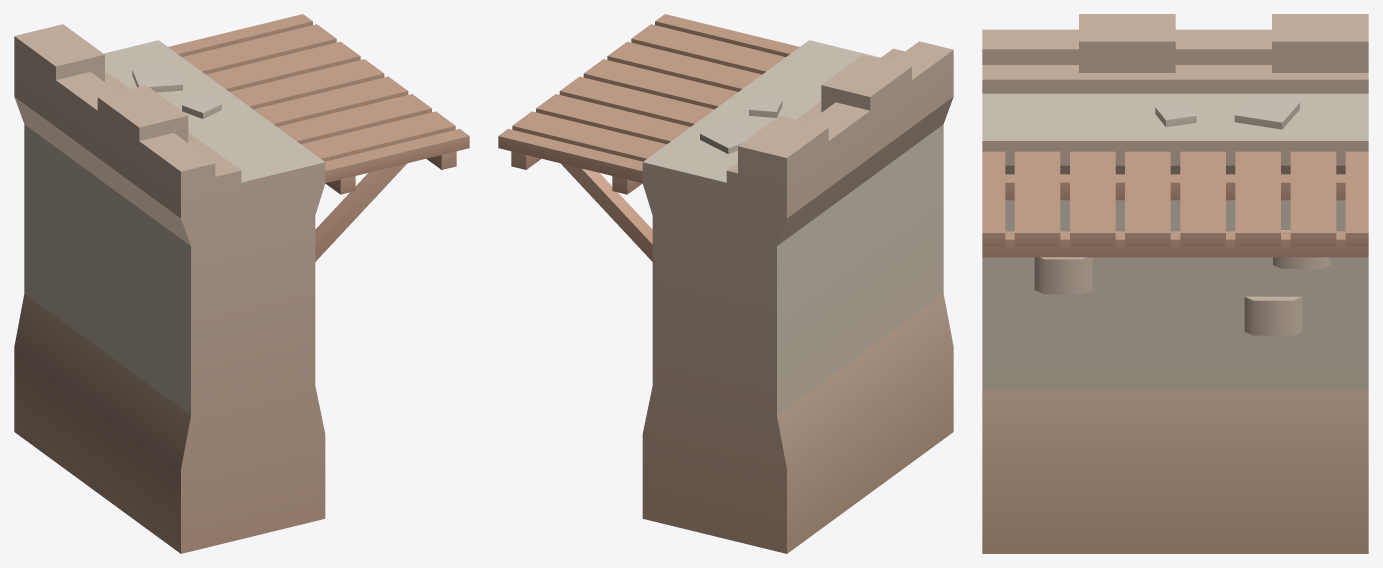
The model's file is wall-narrow-wood.glb.
The picture shows the model from 3 angles, left to right: view 1: azimuth 30°, elevation 25°; view 2: azimuth 150°, elevation 25°; view 3: azimuth 270°, elevation 25°; orthographic projection. The views are drawn at different scales.
Visible parts, largest first — view 1: wall-narrow-wood; view 2: wall-narrow-wood; view 3: wall-narrow-wood.
Boxes of the visible parts, <box> form: wall-narrow-wood: <box>14,14,469,553</box>; wall-narrow-wood: <box>498,14,953,553</box>; wall-narrow-wood: <box>982,14,1368,553</box>.
Bounding box in the file's own units: 1 × 1.31 × 1.
